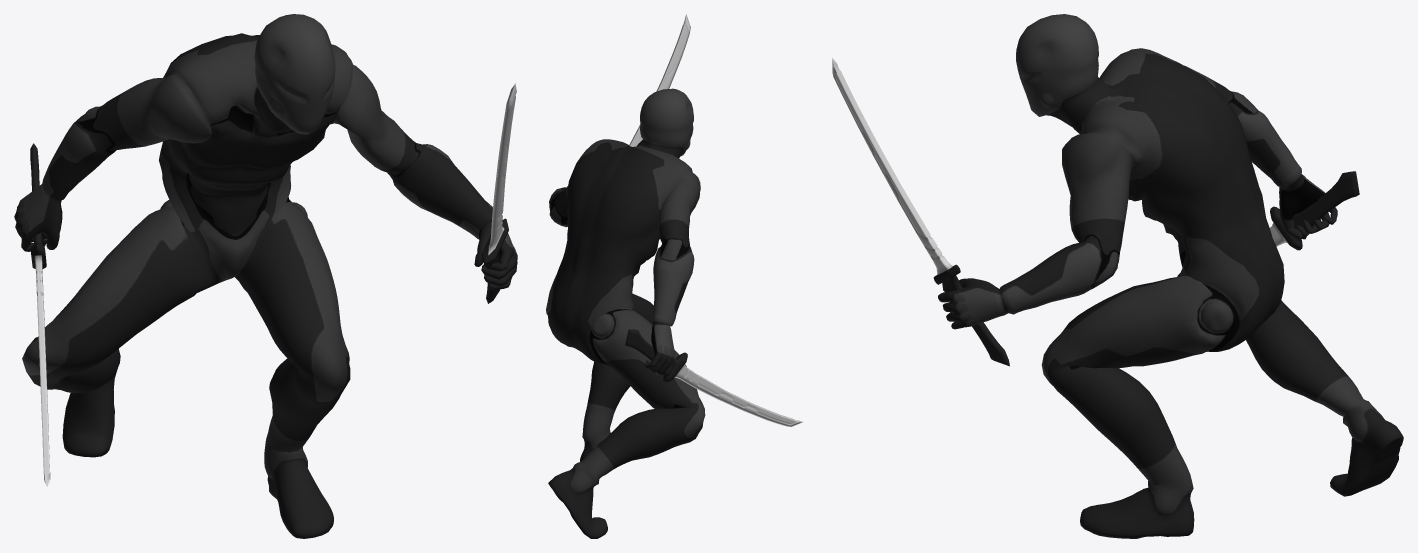
3 renders of one model, left to right at view 1: azimuth 30°, elevation 25°; view 2: azimuth 150°, elevation 25°; view 3: azimuth 270°, elevation 25°, orthographic. The views are drawn at different scales.
Parts seen in each view (by area): view 1: Cyborg_Ninja_Killer, Sword_l001, Sword_l; view 2: Cyborg_Ninja_Killer, Sword_l001, Sword_l; view 3: Cyborg_Ninja_Killer, Sword_l, Sword_l001.
Part boxes in pixels (x1,y1,x2,y2): Cyborg_Ninja_Killer: (14, 14, 517, 538); Sword_l001: (30, 143, 50, 486); Sword_l: (481, 83, 516, 303); Cyborg_Ninja_Killer: (546, 88, 705, 538); Sword_l001: (625, 329, 802, 426); Sword_l: (629, 14, 690, 146); Cyborg_Ninja_Killer: (938, 14, 1403, 538); Sword_l: (832, 58, 1009, 366); Sword_l001: (1269, 171, 1359, 250).
Bounding box in the file's own units: 106 × 136 × 142.
2 materials, 2 textured.
